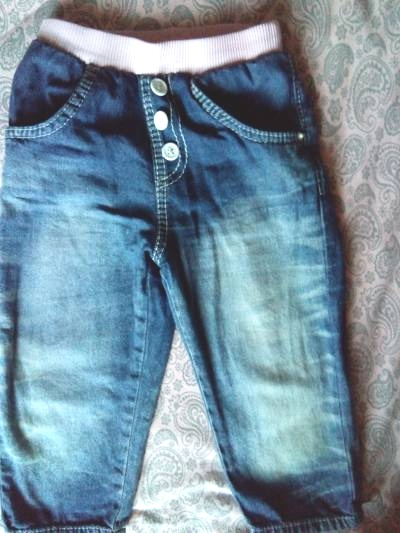Pants: (2, 10, 372, 516)
